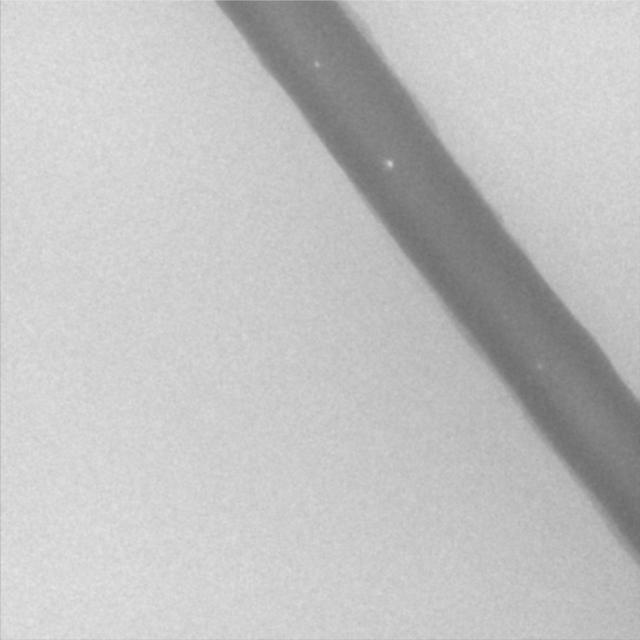air hole: (382, 158, 394, 169), (312, 59, 320, 68)
